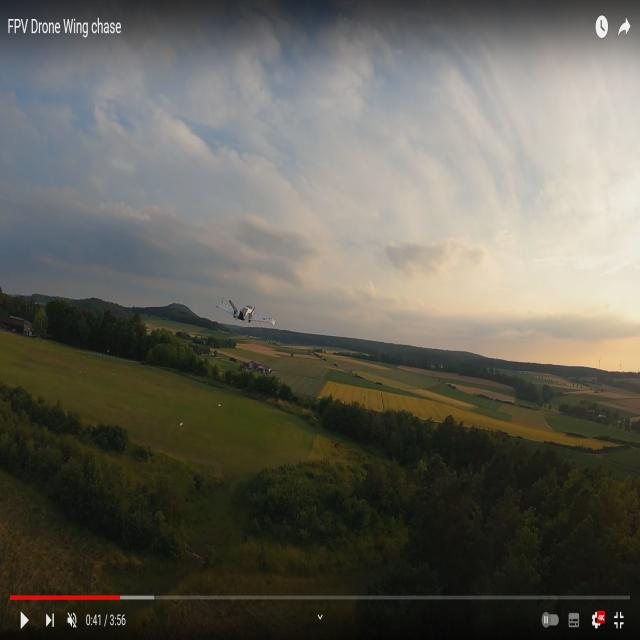iha: (219, 299, 276, 330)
